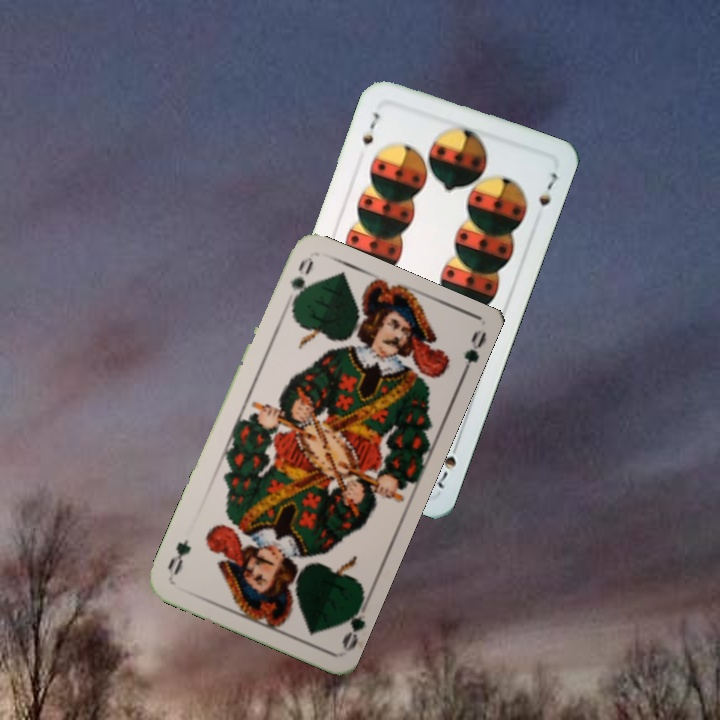GO: (336, 595, 372, 653), (286, 254, 310, 313)
S7: (433, 436, 462, 492), (358, 108, 382, 148)
